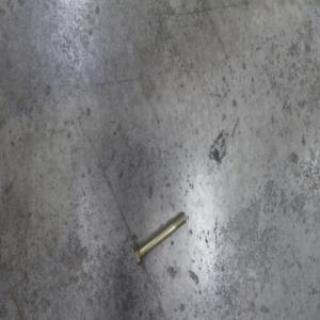Bolttrack_idkeyframe: (132, 208, 186, 269)
